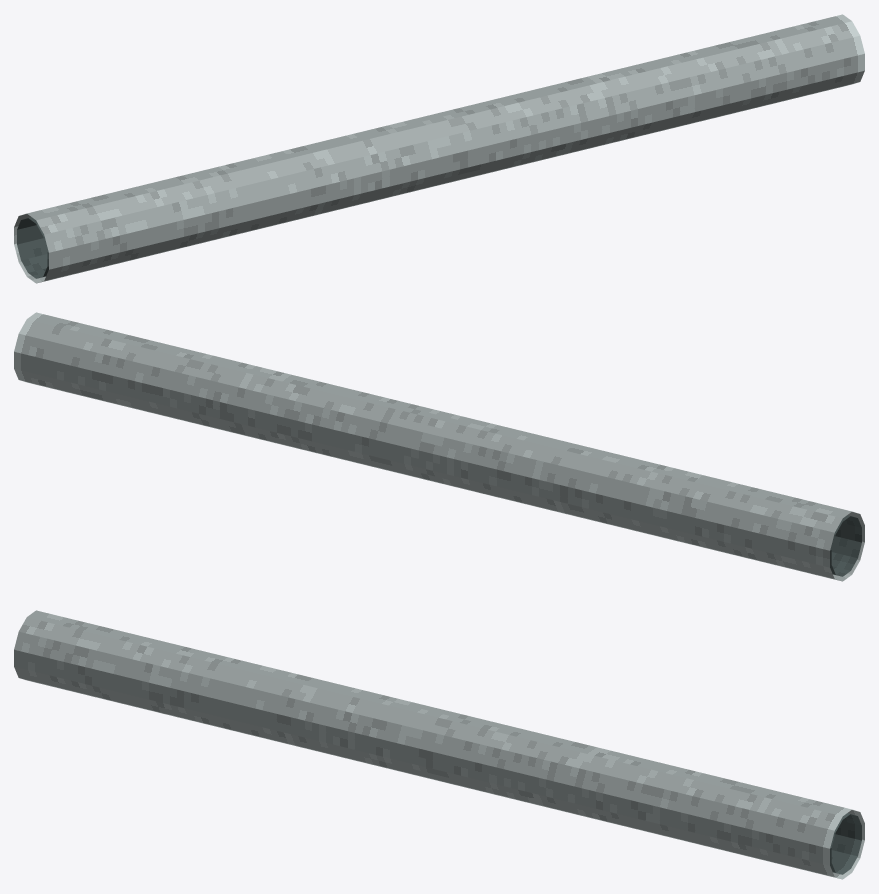
File: pipe.glb
The picture shows the model from 3 angles, top to bottom: view 1: azimuth 30°, elevation 25°; view 2: azimuth 150°, elevation 25°; view 3: azimuth 330°, elevation 25°; orthographic projection.
Visible parts, largest first — view 1: block_steel tube, block_dark inner wall; view 2: block_steel tube, block_dark inner wall; view 3: block_steel tube, block_dark inner wall.
Boxes of the visible parts, x1,y1,x2,y2 form: block_steel tube: (14,14,864,283); block_dark inner wall: (17,217,48,278); block_steel tube: (14,312,864,581); block_dark inner wall: (830,515,861,576); block_steel tube: (14,610,864,879); block_dark inner wall: (830,813,861,874).
Bounding box in the file's own units: 0.6 × 0.0444 × 0.0444.
Materials: 2 (2 with a texture image).
